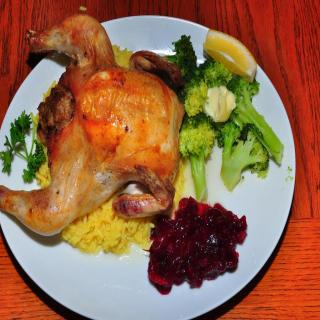Broccoli: (171, 33, 284, 207)
